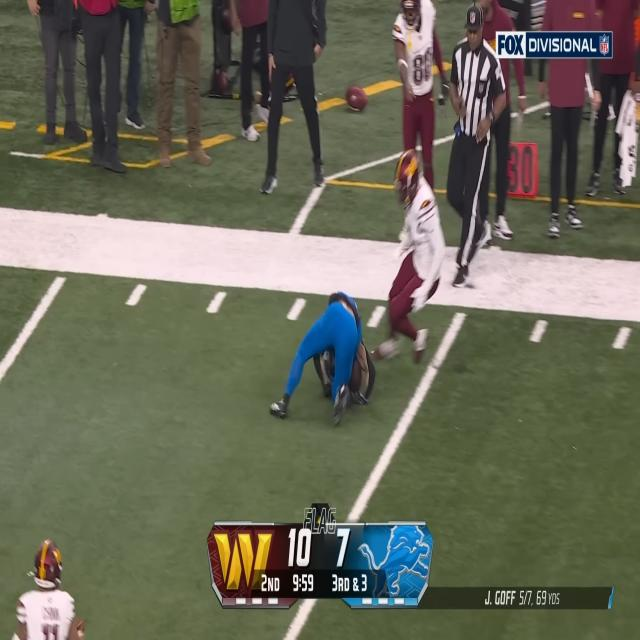Ball: (348, 360, 363, 393)
